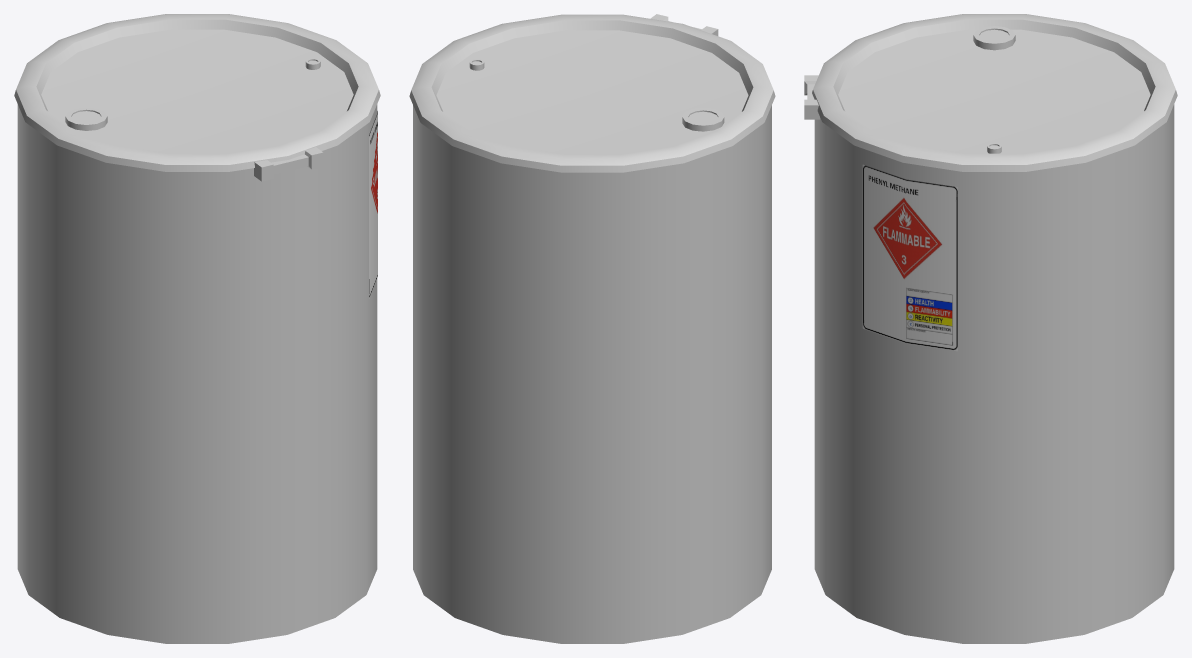
The model's file is Phenyl_Methane_Drum.fbx.
3 renders of one model, left to right at view 1: azimuth 30°, elevation 25°; view 2: azimuth 150°, elevation 25°; view 3: azimuth 270°, elevation 25°, orthographic.
Parts seen in each view (by area): view 1: 55_Gal_Drum_MethylBenzene.001, 55_Gal_Drum_Lid_Low.004, 55_Gal_Drum_Label_Low.008; view 2: 55_Gal_Drum_MethylBenzene.001, 55_Gal_Drum_Lid_Low.004; view 3: 55_Gal_Drum_MethylBenzene.001, 55_Gal_Drum_Lid_Low.004, 55_Gal_Drum_Label_Low.008.
Part boxes in pixels (x1=…): 55_Gal_Drum_MethylBenzene.001: x1=17, y1=104, x2=377, y2=643; 55_Gal_Drum_Lid_Low.004: x1=14, y1=14, x2=380, y2=181; 55_Gal_Drum_Label_Low.008: x1=369, y1=111, x2=377, y2=298; 55_Gal_Drum_MethylBenzene.001: x1=413, y1=105, x2=771, y2=643; 55_Gal_Drum_Lid_Low.004: x1=409, y1=14, x2=775, y2=172; 55_Gal_Drum_MethylBenzene.001: x1=814, y1=104, x2=1174, y2=643; 55_Gal_Drum_Lid_Low.004: x1=804, y1=14, x2=1177, y2=171; 55_Gal_Drum_Label_Low.008: x1=862, y1=164, x2=957, y2=351.
Bounding box in the file's own units: 58.21 × 85.89 × 60.23.
